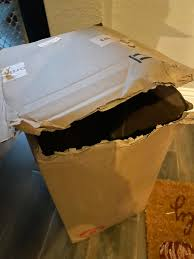damaged package: (21, 81, 188, 162)
